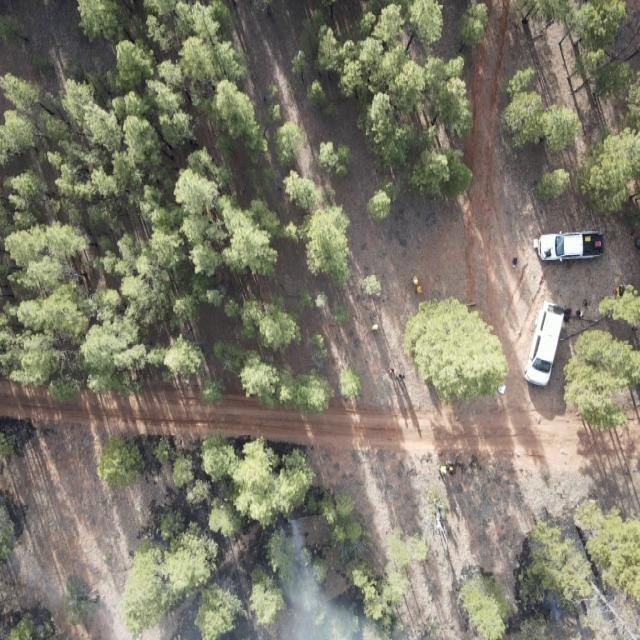smoke: (256, 512, 404, 640), (545, 591, 614, 640), (177, 604, 256, 640)
